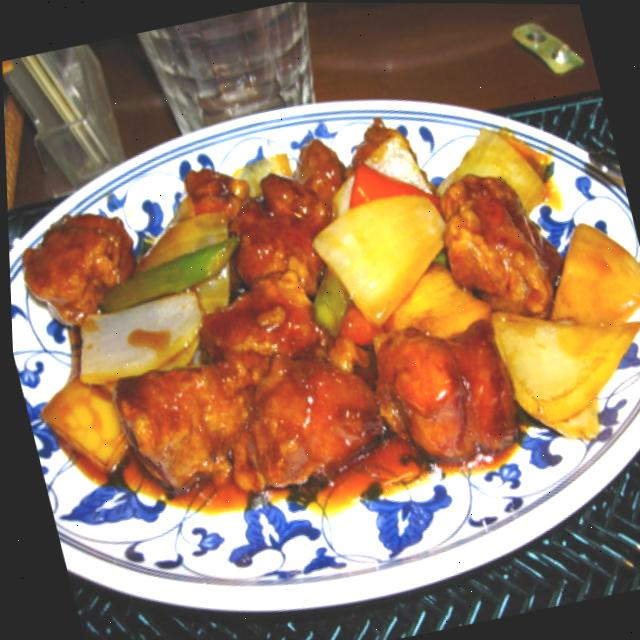猪肉菜式: (2, 64, 640, 559)
